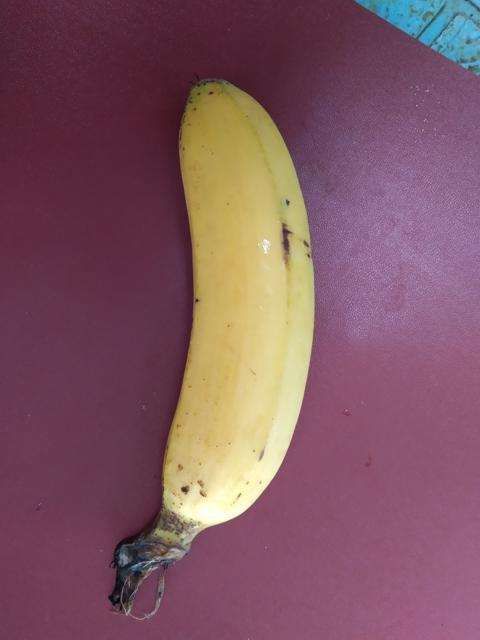freshripe: (118, 65, 338, 519)
